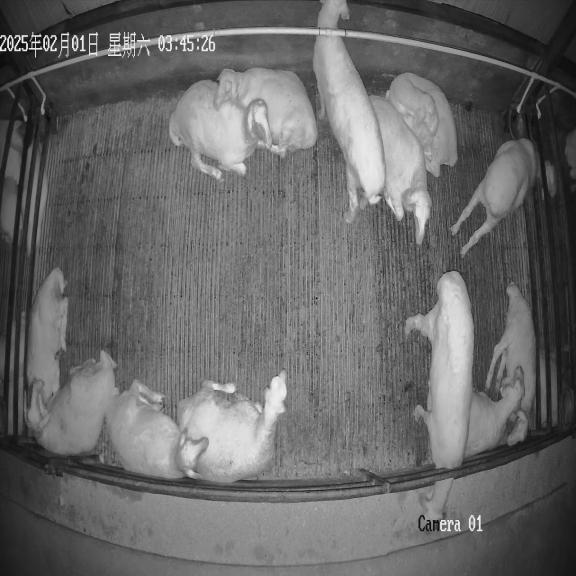eating: (405, 271, 474, 536)
lying: (178, 370, 287, 482), (168, 80, 272, 179), (106, 380, 209, 479), (26, 350, 118, 456), (215, 68, 318, 157), (369, 95, 429, 244), (486, 283, 536, 446), (385, 72, 457, 177), (27, 268, 68, 402), (464, 370, 524, 460)
stand: (313, 0, 386, 223), (451, 138, 556, 257)
